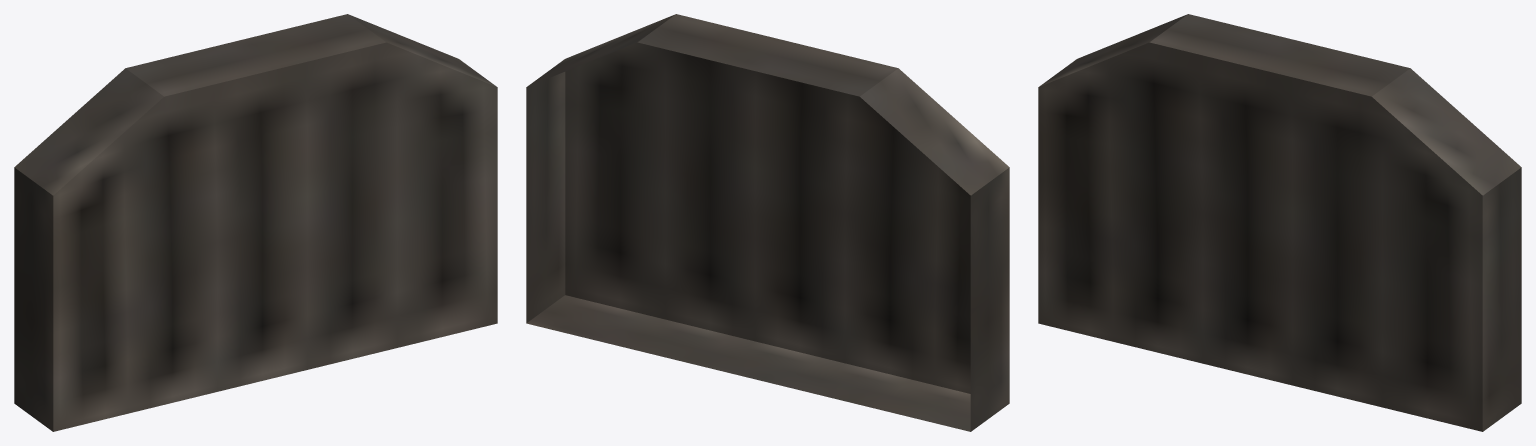
The model's file is machine_3_4.FBX.
3 views of the same model, side by side, from view 1: azimuth 30°, elevation 25°; view 2: azimuth 150°, elevation 25°; view 3: azimuth 330°, elevation 25° (orthographic).
Visible parts, largest first — view 1: Object032; view 2: Object032; view 3: Object032.
Boxes of the visible parts, x1,y1,x2,y2 form: Object032: [14, 14, 497, 431]; Object032: [526, 14, 1009, 431]; Object032: [1038, 14, 1521, 431].
Bounding box in the file's own units: 7.7 × 5.1 × 1.17.
